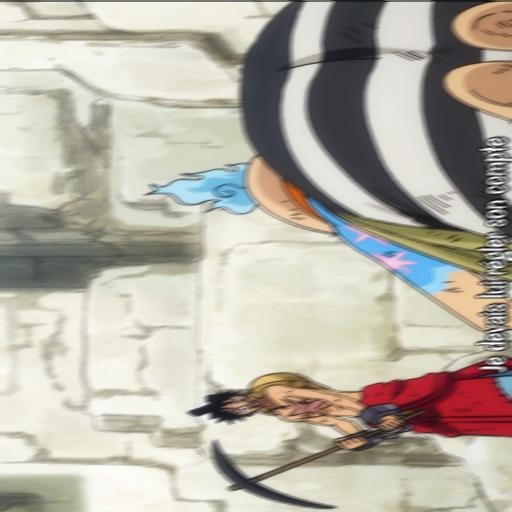Luffy: (187, 362, 512, 459)
